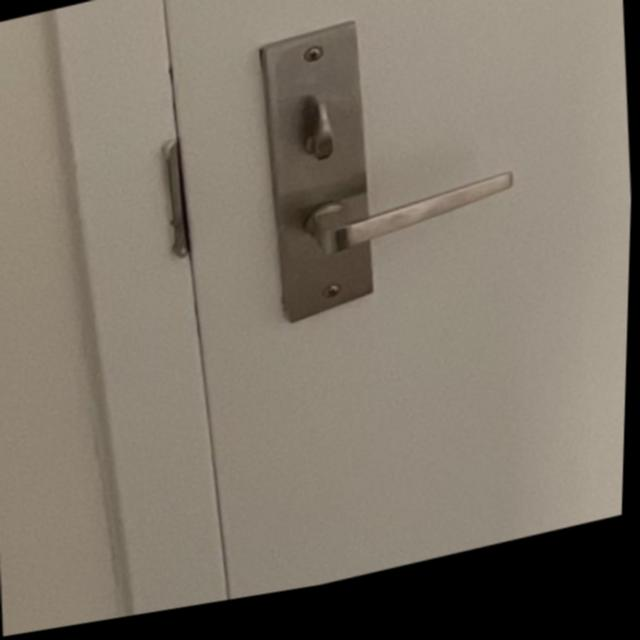door_handle: (288, 149, 537, 286)
